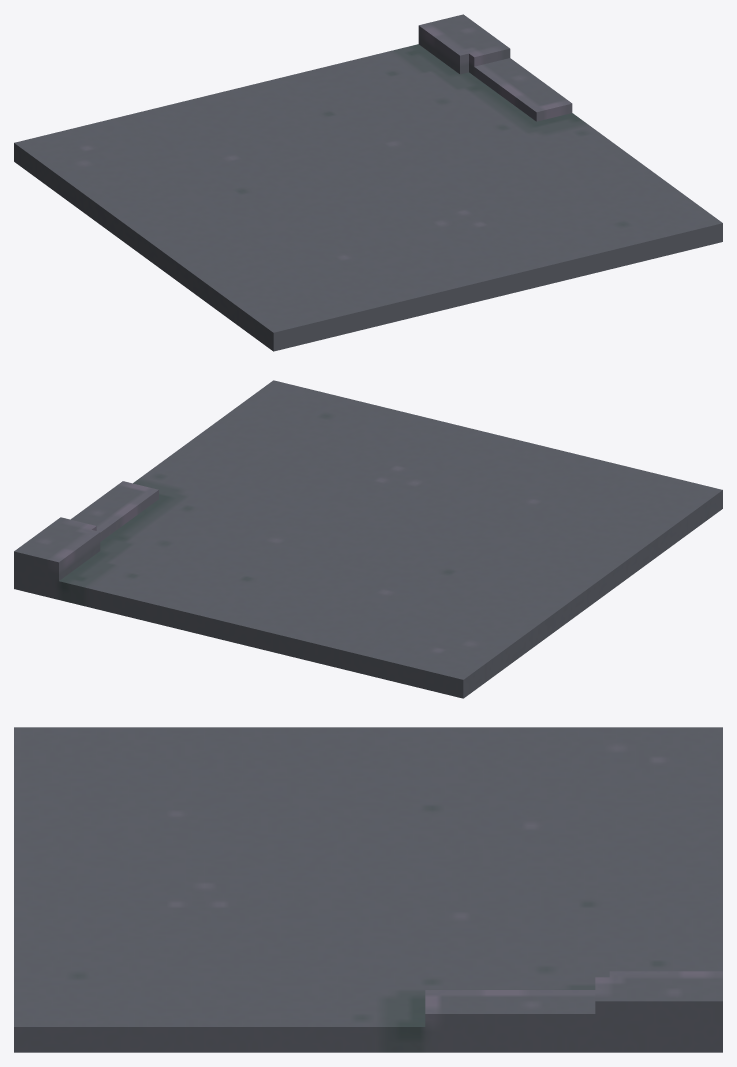
The model's file is GroundTile_008.fbx.
3 views of the same model, one above another, from view 1: azimuth 30°, elevation 25°; view 2: azimuth 150°, elevation 25°; view 3: azimuth 270°, elevation 25° (orthographic). The views are drawn at different scales.
Parts seen in each view (by area): view 1: GroundTile_008; view 2: GroundTile_008; view 3: GroundTile_008.
Boxes of the visible parts, x1=… form: GroundTile_008: x1=14, y1=14, x2=722, y2=351; GroundTile_008: x1=14, y1=380, x2=722, y2=698; GroundTile_008: x1=14, y1=727, x2=722, y2=1052.
Size of the model in its own units: 250 by 20 by 250.
